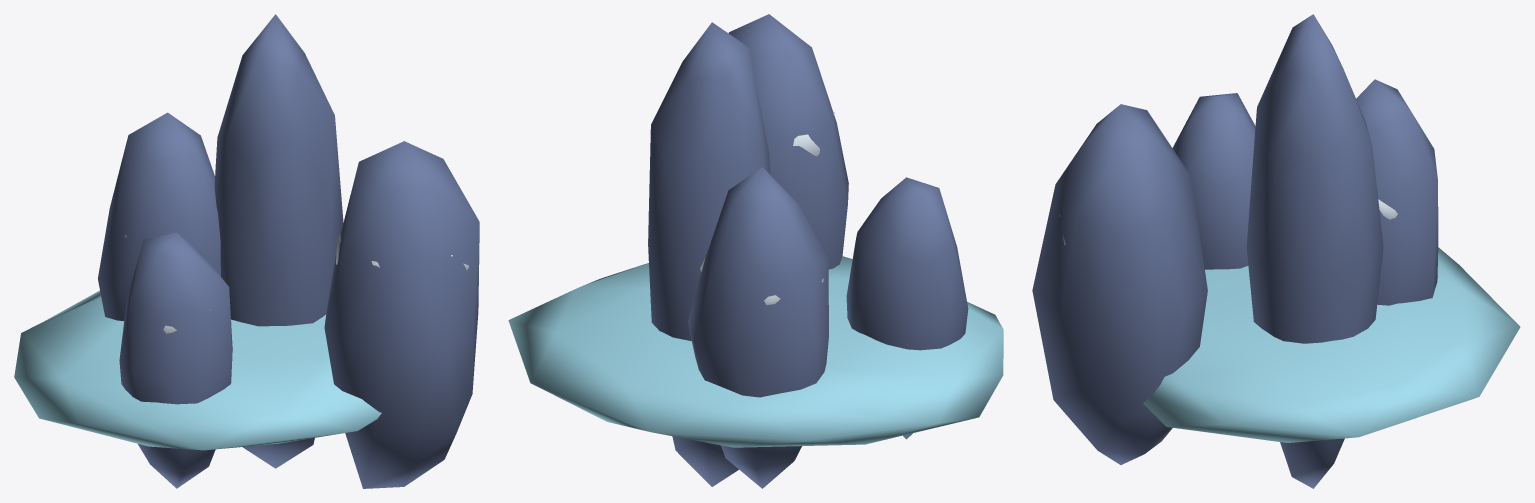
The model's file is r019_sky_lagoon_snow_terrain_snow_03.glb.
3 renders of one model, left to right at view 1: azimuth 30°, elevation 25°; view 2: azimuth 150°, elevation 25°; view 3: azimuth 270°, elevation 25°, orthographic. The views are drawn at different scales.
Visible parts, largest first — view 1: r019_sky_lagoon_snow_terrain_snow_03.001; view 2: r019_sky_lagoon_snow_terrain_snow_03.001; view 3: r019_sky_lagoon_snow_terrain_snow_03.001.
Part boxes in pixels (box(x1,y1,x2,y2)): r019_sky_lagoon_snow_terrain_snow_03.001: box(14, 14, 479, 488); r019_sky_lagoon_snow_terrain_snow_03.001: box(508, 14, 1003, 488); r019_sky_lagoon_snow_terrain_snow_03.001: box(1032, 14, 1520, 488).
Bounding box in the file's own units: 4.3 × 4.38 × 4.08.
